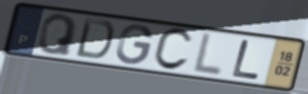C: (150, 27, 195, 73)
D: (73, 16, 116, 62)
G: (115, 23, 156, 66)
L: (189, 31, 225, 79), (230, 38, 263, 81)
Q: (36, 13, 80, 58)
